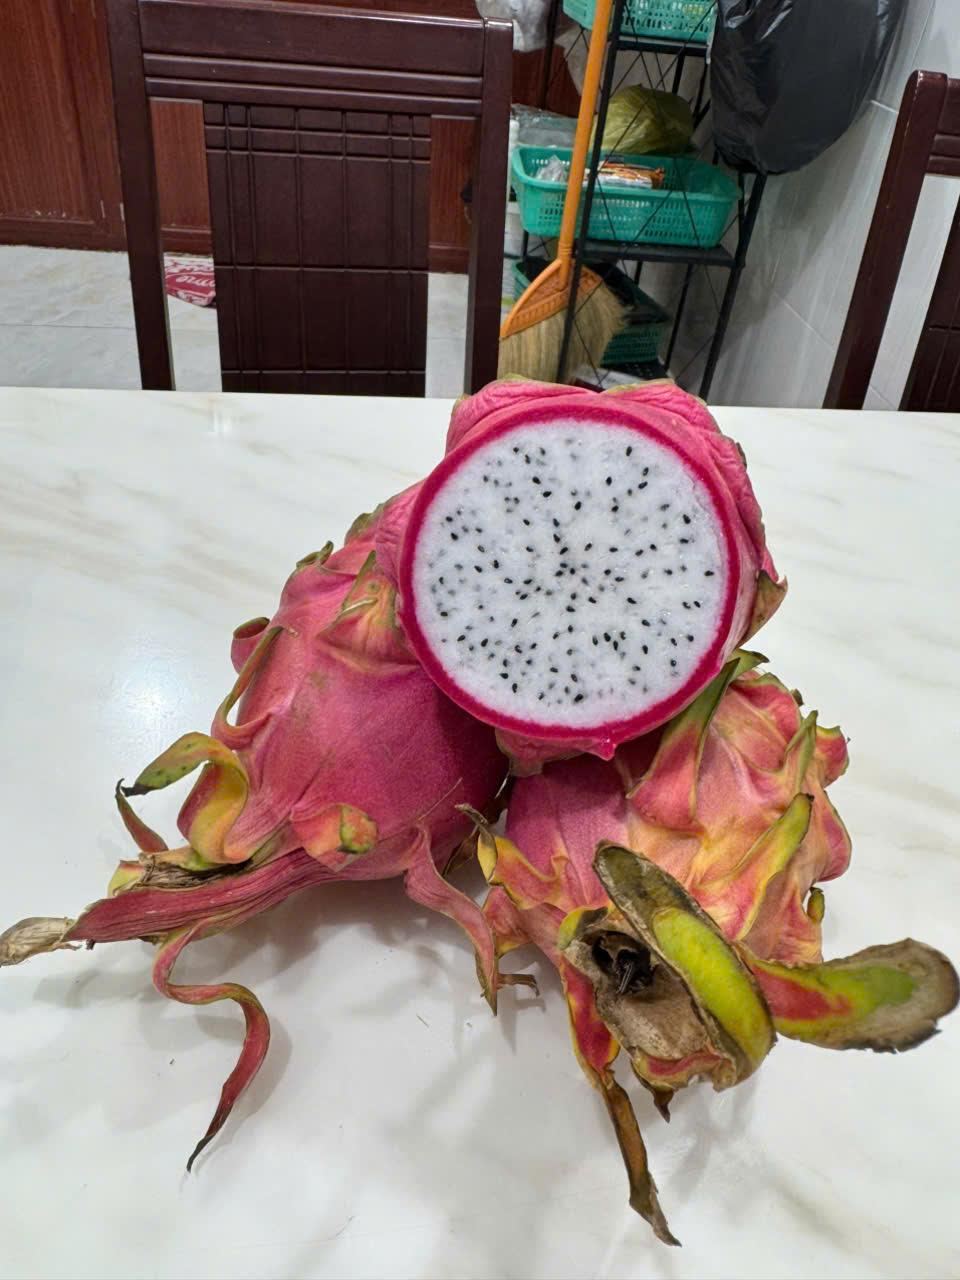dragon fruit: (78, 588, 496, 1197), (506, 742, 947, 1228), (390, 364, 779, 772)
